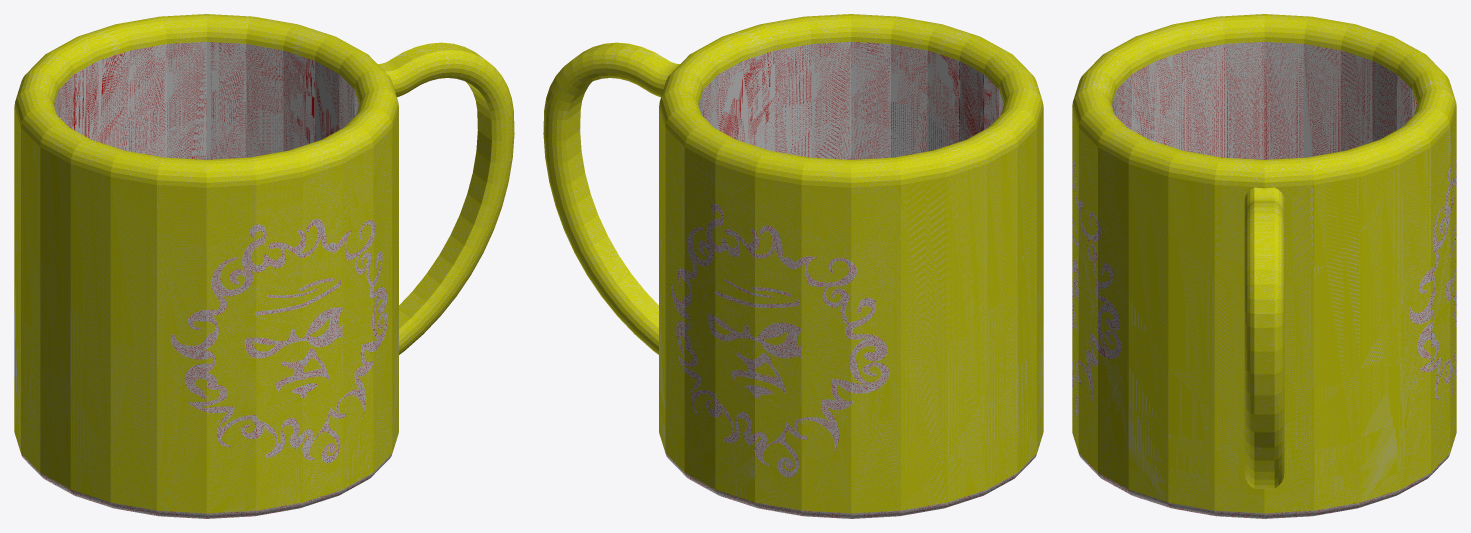
3 renders of one model, left to right at view 1: azimuth 30°, elevation 25°; view 2: azimuth 150°, elevation 25°; view 3: azimuth 270°, elevation 25°, orthographic.
Visible parts, largest first — view 1: mesh1_mesh1-geometry; view 2: mesh1_mesh1-geometry; view 3: mesh1_mesh1-geometry.
Part boxes in pixels (box(x1,y1,x2,y2)): mesh1_mesh1-geometry: box(14, 14, 514, 518); mesh1_mesh1-geometry: box(543, 14, 1043, 518); mesh1_mesh1-geometry: box(1072, 14, 1456, 518).
Size of the model in its own units: 0.7037 by 0.5055 by 0.4993.
